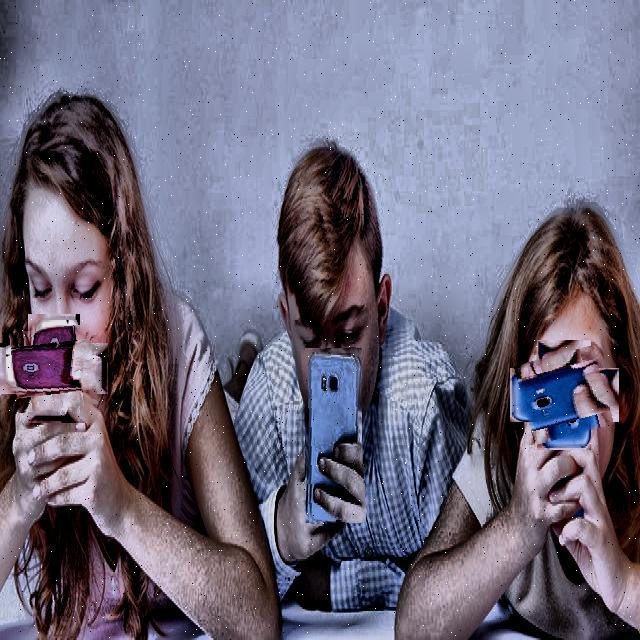Phone: (303, 348, 364, 524), (518, 350, 610, 440), (12, 326, 96, 411)
